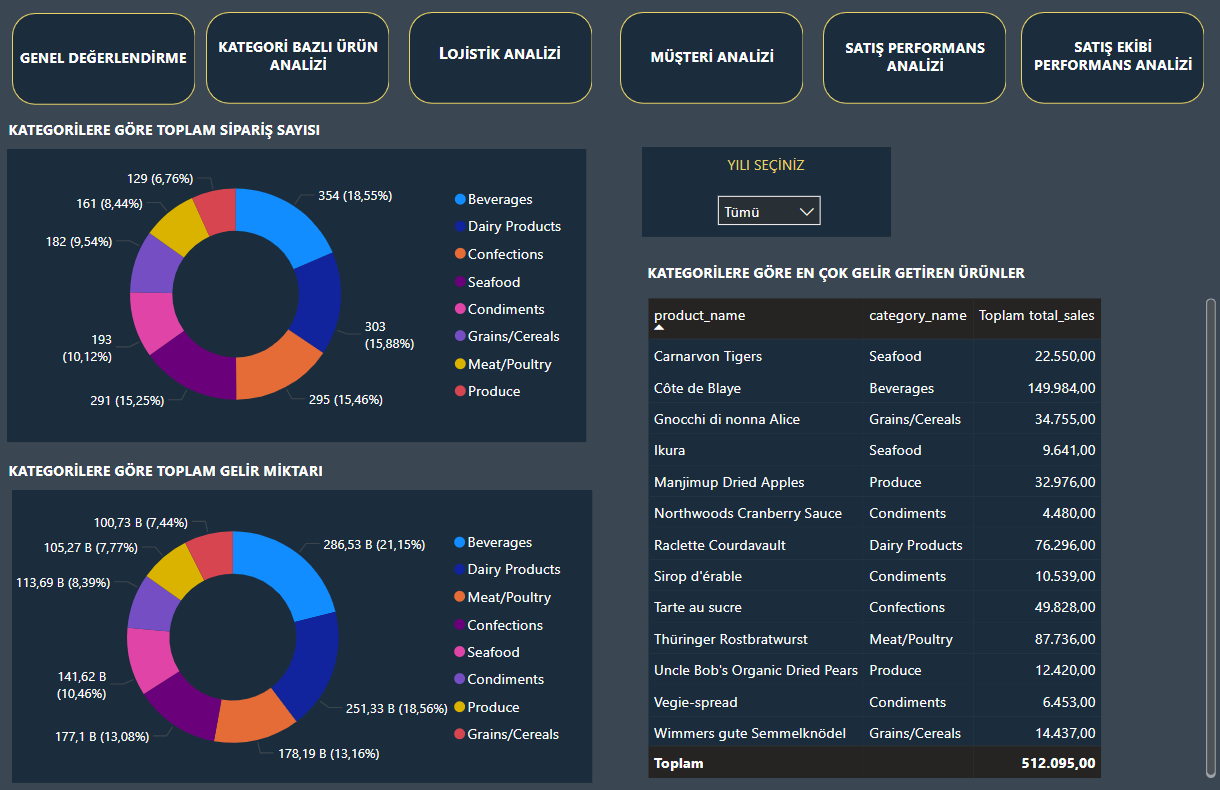

The dashboard page shown, as its layout file describes it:
{"tool":"powerbi","page":{"name":"kategoriler","canvas":[1150,750],"ordinal":1},"visuals":[{"type":"shape","box":[599.4,142.5,230,83.5],"z":0},{"type":"shape","box":[384.6,17.1,169.5,84.7],"z":1000},{"type":"shape","box":[17.2,459,536,270.5],"z":2000},{"type":"shape","box":[578.8,17.1,169.5,84.7],"z":3000},{"type":"shape","box":[766.3,17.1,169.5,84.7],"z":4000},{"type":"shape","box":[949.1,17.1,169.5,84.7],"z":5000},{"type":"shape","box":[197.1,17.1,169.5,84.7],"z":6000},{"type":"textbox","box":[197.1,35.2,170.4,50.5],"z":7000},{"type":"textbox","box":[383.7,39,169.5,32.4],"z":8000},{"type":"textbox","box":[9.1,111.5,554.2,32.4],"z":9000},{"type":"textbox","box":[578.8,44.7,170.4,26.7],"z":10000},{"type":"textbox","box":[9.1,426.6,554.2,32.4],"z":11000},{"type":"textbox","box":[766.3,36.2,170.4,49.5],"z":12000},{"type":"shape","box":[13.2,144.5,535.3,270.7],"z":13000},{"type":"textbox","box":[949.1,35.2,170.4,50.5],"z":14000},{"type":"donutChart","fields":{"Category":["kategori_1.category_name"],"Y":["Sum(kategori_1.total_orders)"]},"box":[17.3,142.5,522.1,271.7],"z":15000},{"type":"slicer","fields":{"Values":["Calendar.Year"]},"box":[659.5,177.1,115,48.8],"z":16000},{"type":"textbox","box":[654.4,144.5,120.1,32.6],"z":17000},{"type":"donutChart","fields":{"Category":["kategori_2.category_name"],"Y":["Sum(kategori_2.total_sales)"]},"box":[13.2,459,526.2,271.7],"z":18000},{"type":"textbox","box":[599.4,244.2,388.8,32.6],"z":19000},{"type":"tableEx","fields":{"Values":["kategori_3.product_name","kategori_3.category_name","Sum(kategori_3.total_sales)"]},"box":[599.4,276.8,535.3,452.9],"z":20000},{"type":"shape","box":[17.1,18.1,169.5,84.7],"z":21000},{"type":"textbox","box":[18,45.6,168.5,50.5],"z":22000}]}

Visuals, with their boxes in screenshot pixels (x1, y1, x2, y2), scaled from the page's 1150x750 canvas onto the 1220x790 screenshot:
shape: locate(636, 150, 880, 238)
shape: locate(408, 18, 588, 107)
shape: locate(18, 483, 587, 768)
shape: locate(614, 18, 794, 107)
shape: locate(813, 18, 993, 107)
shape: locate(1007, 18, 1187, 107)
shape: locate(209, 18, 389, 107)
textbox: locate(209, 37, 390, 90)
textbox: locate(407, 41, 587, 75)
textbox: locate(10, 117, 598, 152)
textbox: locate(614, 47, 795, 75)
textbox: locate(10, 449, 598, 483)
textbox: locate(813, 38, 994, 90)
shape: locate(14, 152, 582, 437)
textbox: locate(1007, 37, 1188, 90)
donutChart - kategori_1.category_name x Sum(kategori_1.total_orders): locate(18, 150, 572, 436)
slicer - Calendar.Year: locate(700, 187, 822, 238)
textbox: locate(694, 152, 822, 187)
donutChart - kategori_2.category_name x Sum(kategori_2.total_sales): locate(14, 483, 572, 770)
textbox: locate(636, 257, 1048, 292)
tableEx - kategori_3.product_name x kategori_3.category_name: locate(636, 292, 1204, 769)
shape: locate(18, 19, 198, 108)
textbox: locate(19, 48, 198, 101)
